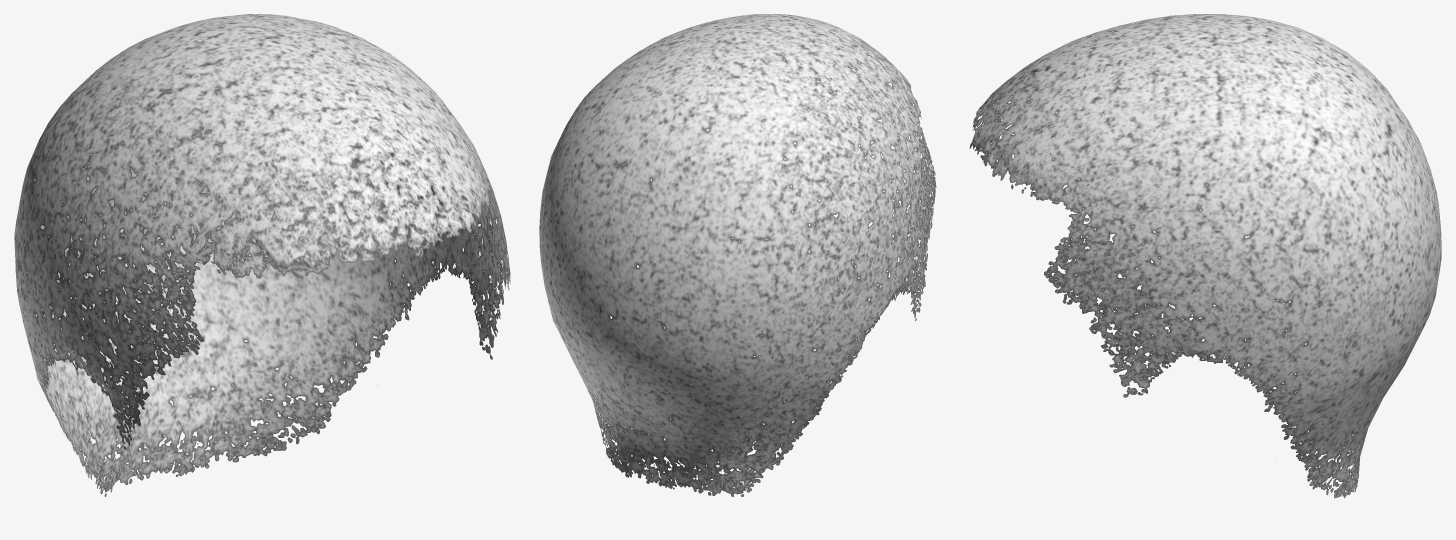
File: hair_1.glb
3 renders of one model, left to right at view 1: azimuth 30°, elevation 25°; view 2: azimuth 150°, elevation 25°; view 3: azimuth 270°, elevation 25°, orthographic. The views are drawn at different scales.
Visible parts, largest first — view 1: hair_cap; view 2: hair_cap; view 3: hair_cap.
Part boxes in pixels (left/top/right/bottom): hair_cap: left=14, top=14, right=510, bottom=496; hair_cap: left=539, top=14, right=936, bottom=496; hair_cap: left=969, top=14, right=1441, bottom=498.
Size of the model in its own units: 0.1649 by 0.2082 by 0.1943.
Materials: 1 (1 with a texture image).
